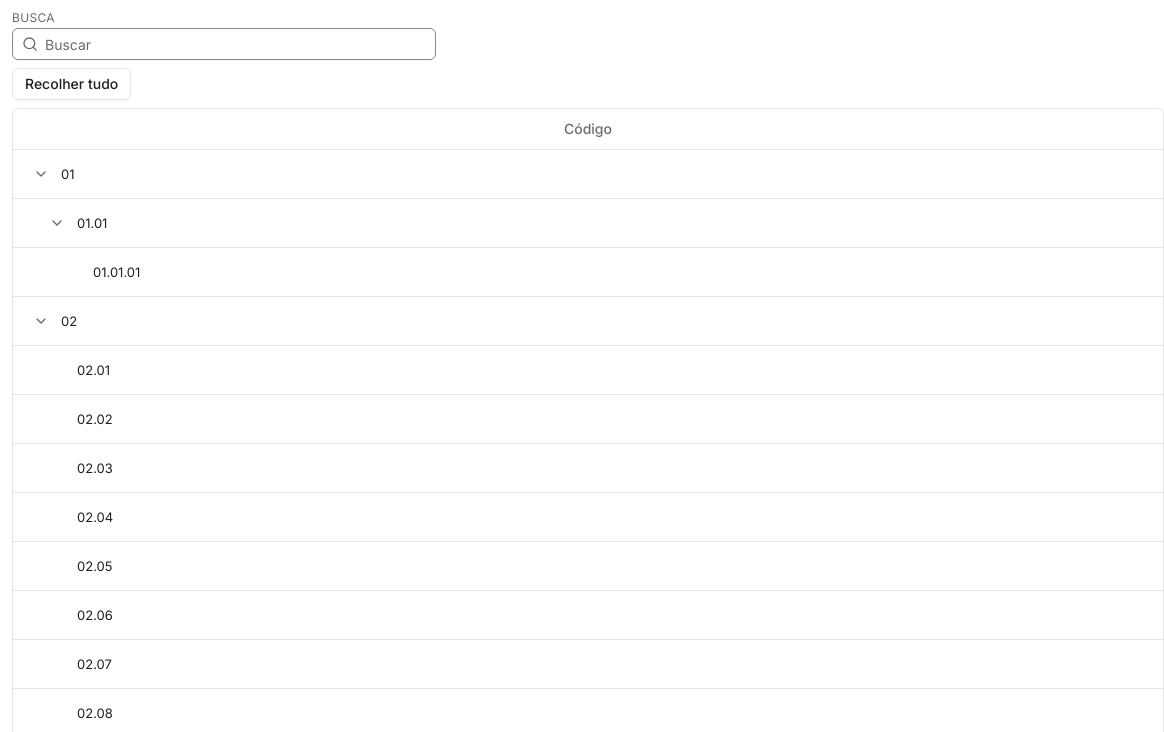
it: DataTable com subLinhas › a busca mostra o achado com os ancestrais e força tudo aberto, escondendo quem não casa
Click the button "Recolher tudo". click: coordinates (72, 84)
box: [12, 68, 131, 100]
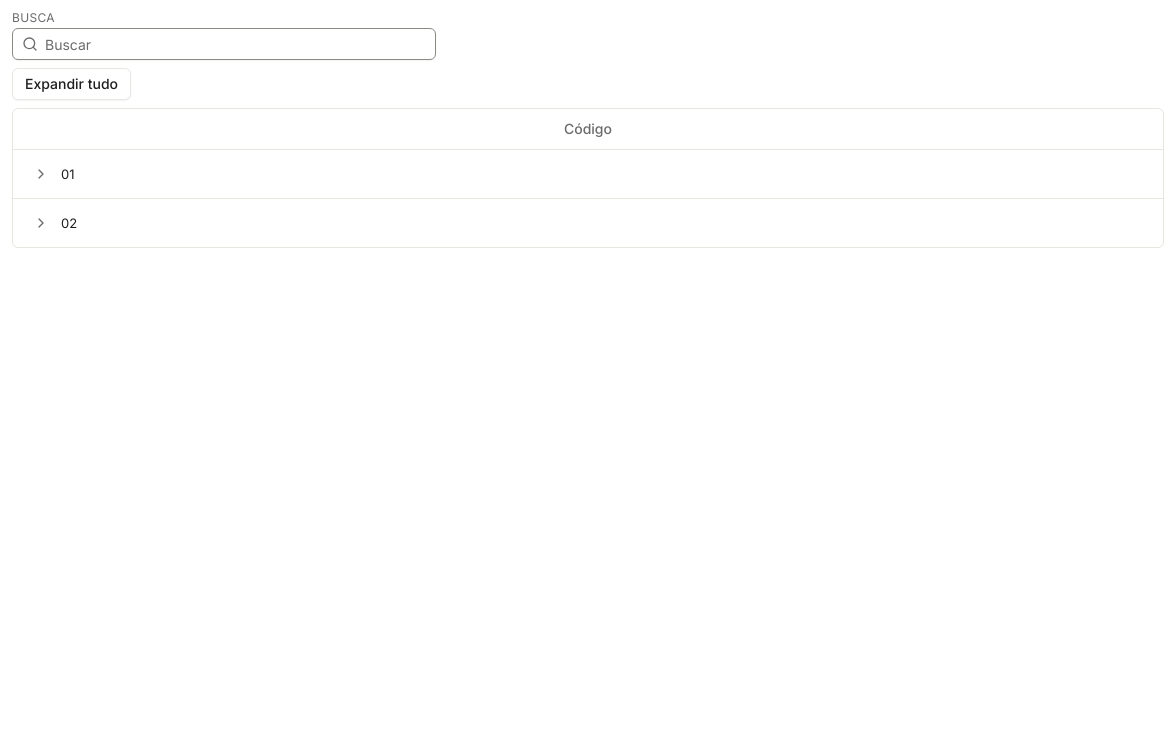
Expected: the text "01.01.01" is gone
Type "01.01.01" into the search field. click: coordinates (224, 44)
box: [12, 28, 436, 60]
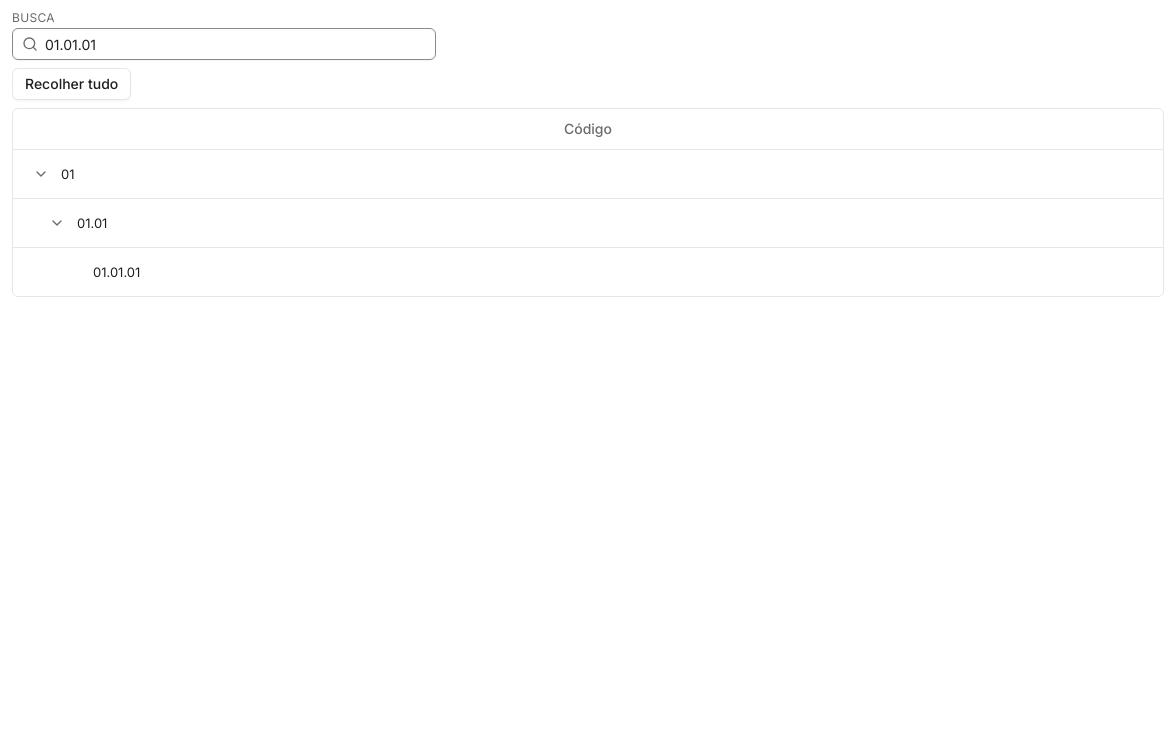
Expected: the text "01.01" is shown, [77, 212, 107, 232]
Expected: the text "01.01.01" is shown, [93, 262, 140, 282]
Expected: the text "02" is gone
